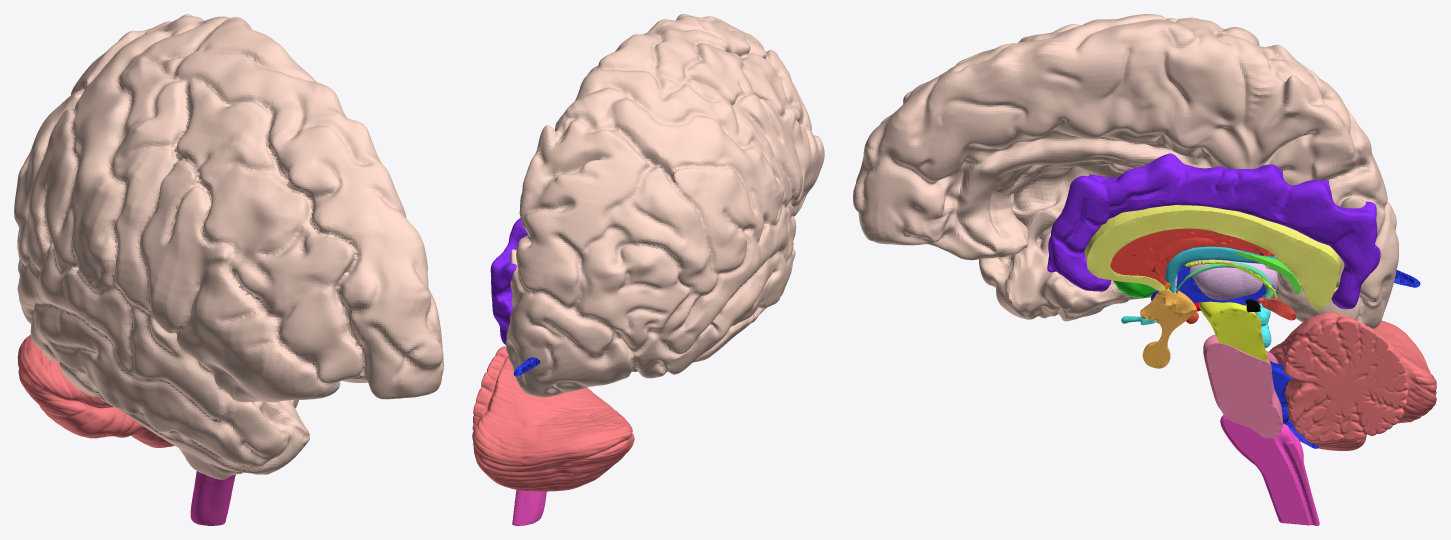
The model's file is brain-model.glb.
3 views of the same model, side by side, from view 1: azimuth 30°, elevation 25°; view 2: azimuth 150°, elevation 25°; view 3: azimuth 270°, elevation 25° (orthographic). The views are drawn at different scales.
Parts seen in each view (by area): view 1: Right_Hemisphere_transparent, Right_cerebellar_hemisphere1, Brain_stem55; view 2: Right_Hemisphere_transparent, Right_cerebellar_hemisphere1, Cingulate_gyrus_right, Brain_stem55; view 3: Right_Hemisphere_transparent, Cingulate_gyrus_right, Right_cerebellar_hemisphere1, Corpus_callosum2, Pons, Brain_stem55, Septum_pellucidum2, Midbrain, Hypothalamus_and_pituitary1, Right_thalamus, Ventricular_system, Fornix_right.
Boxes of the visible parts, x1,y1,x2,y2 form: Right_Hemisphere_transparent: (14,14,443,479); Right_cerebellar_hemisphere1: (17,334,174,447); Brain_stem55: (190,471,235,525); Right_Hemisphere_transparent: (506,14,824,397); Right_cerebellar_hemisphere1: (472,346,634,491); Cingulate_gyrus_right: (490,218,528,344); Brain_stem55: (512,489,546,525); Right_Hemisphere_transparent: (853,14,1398,329); Cingulate_gyrus_right: (1047,153,1380,309); Right_cerebellar_hemisphere1: (1269,312,1436,450); Corpus_callosum2: (1084,205,1341,309); Pons: (1203,334,1282,438); Brain_stem55: (1220,415,1319,525); Septum_pellucidum2: (1110,228,1274,285); Midbrain: (1199,301,1268,362); Hypothalamus_and_pituitary1: (1140,288,1196,368); Right_thalamus: (1189,259,1277,300); Ventricular_system: (1165,262,1420,448); Fornix_right: (1165,246,1278,293).
Size of the model in its own units: 54.87 by 121 by 134.
Materials: 3 (3 with a texture image).
